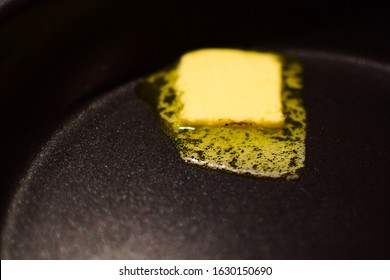Butter: (181, 48, 282, 125)
